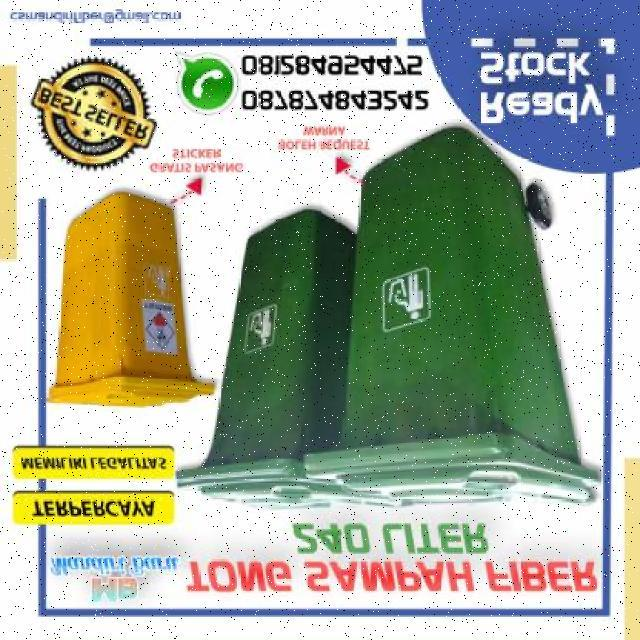garbage container: (303, 124, 605, 512), (173, 207, 355, 527), (44, 186, 217, 414)
